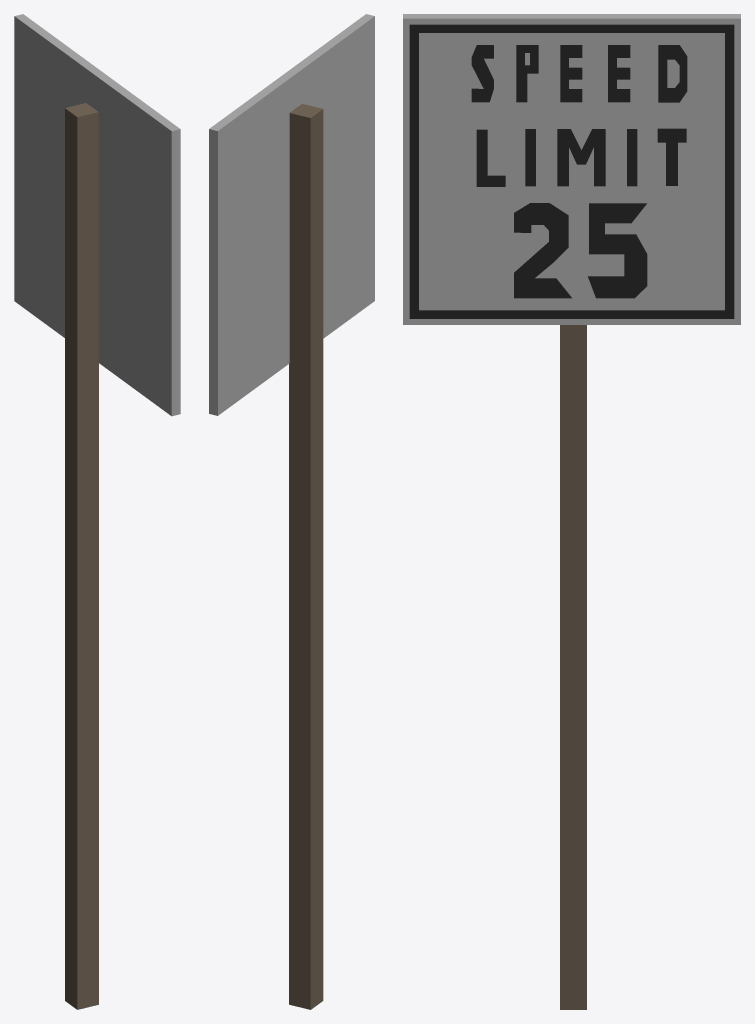
File: SM_speed_limit_25.gltf
3 renders of one model, left to right at view 1: azimuth 30°, elevation 25°; view 2: azimuth 150°, elevation 25°; view 3: azimuth 270°, elevation 25°, orthographic. The views are drawn at different scales.
Visible parts, largest first — view 1: SM_speed_limit_25; view 2: SM_speed_limit_25; view 3: SM_speed_limit_25.
Boxes of the visible parts, box(x1,y1,x2,y2) form: SM_speed_limit_25: box(14, 14, 180, 1009); SM_speed_limit_25: box(209, 14, 374, 1009); SM_speed_limit_25: box(403, 14, 740, 1009).
Bounding box in the file's own units: 0.0971 × 2.73 × 0.841.
1 material, 1 textured.
